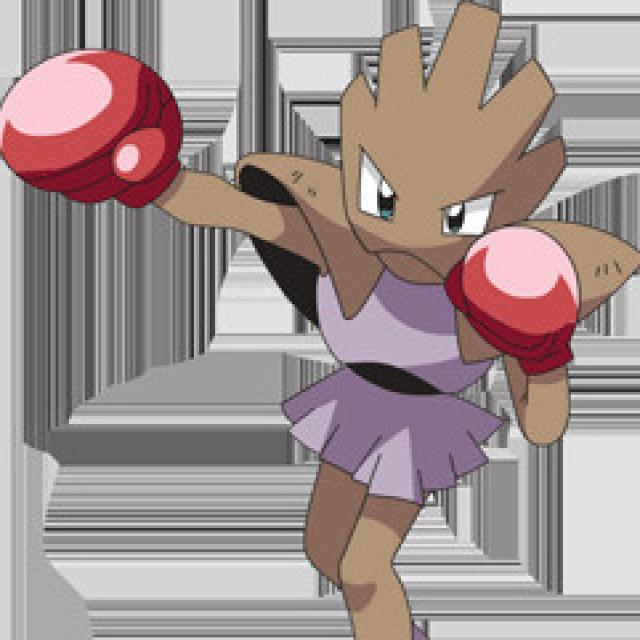Hitmonchan: (224, 6, 640, 635)
